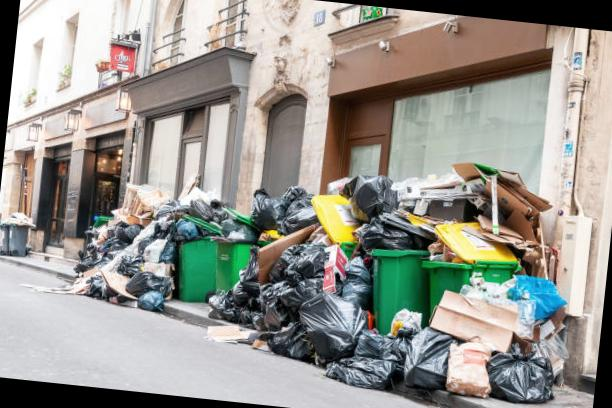trash: (212, 244, 376, 386), (413, 288, 562, 404), (448, 251, 579, 378), (54, 210, 182, 318), (401, 168, 550, 247), (344, 308, 454, 400), (338, 176, 430, 254), (112, 176, 207, 238), (290, 182, 354, 266), (186, 191, 257, 243), (243, 190, 314, 236), (427, 235, 463, 268)
trash_can_overflow: (407, 158, 573, 408), (356, 178, 450, 408), (134, 174, 241, 340), (301, 182, 379, 382), (198, 193, 274, 327), (58, 202, 121, 280), (0, 204, 51, 272)
